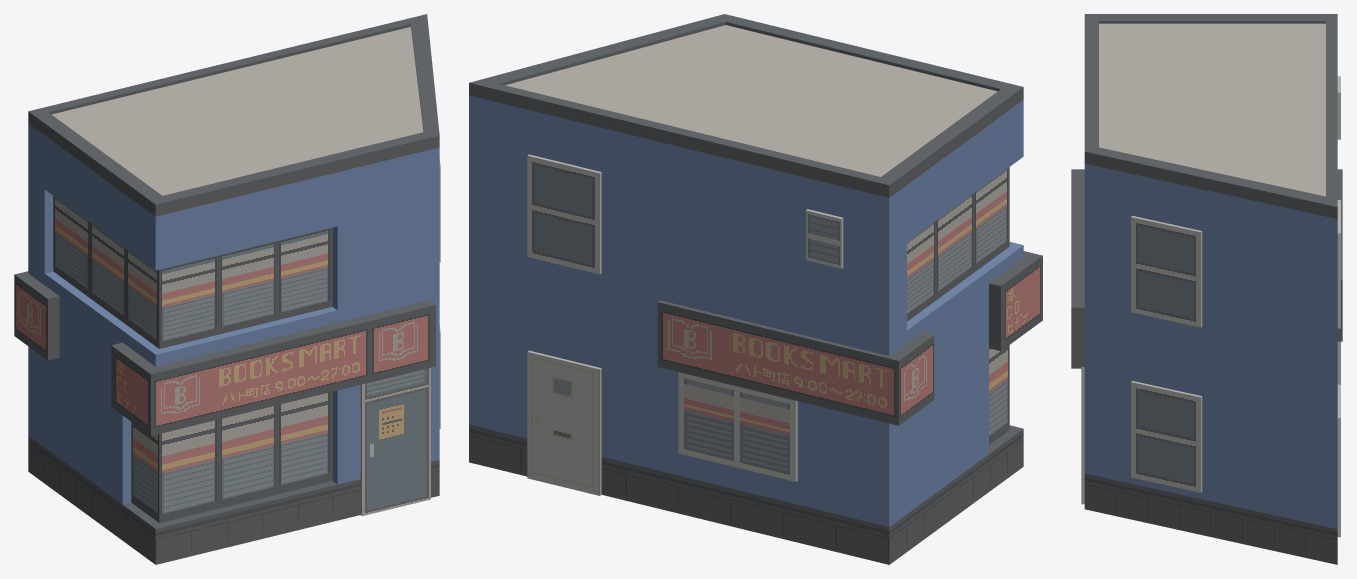
File: 00d1_Bookstore.glb
The picture shows the model from 3 angles, left to right: view 1: azimuth 30°, elevation 25°; view 2: azimuth 150°, elevation 25°; view 3: azimuth 270°, elevation 25°; orthographic projection. The views are drawn at different scales.
Visible parts, largest first — view 1: part_0; view 2: part_0; view 3: part_0.
Boxes of the visible parts, x1,y1,x2,y2 form: part_0: (14, 14, 440, 564); part_0: (469, 14, 1042, 564); part_0: (1071, 14, 1342, 564).
Bounding box in the file's own units: 7.15 × 6 × 4.12.
1 material, 1 textured.
